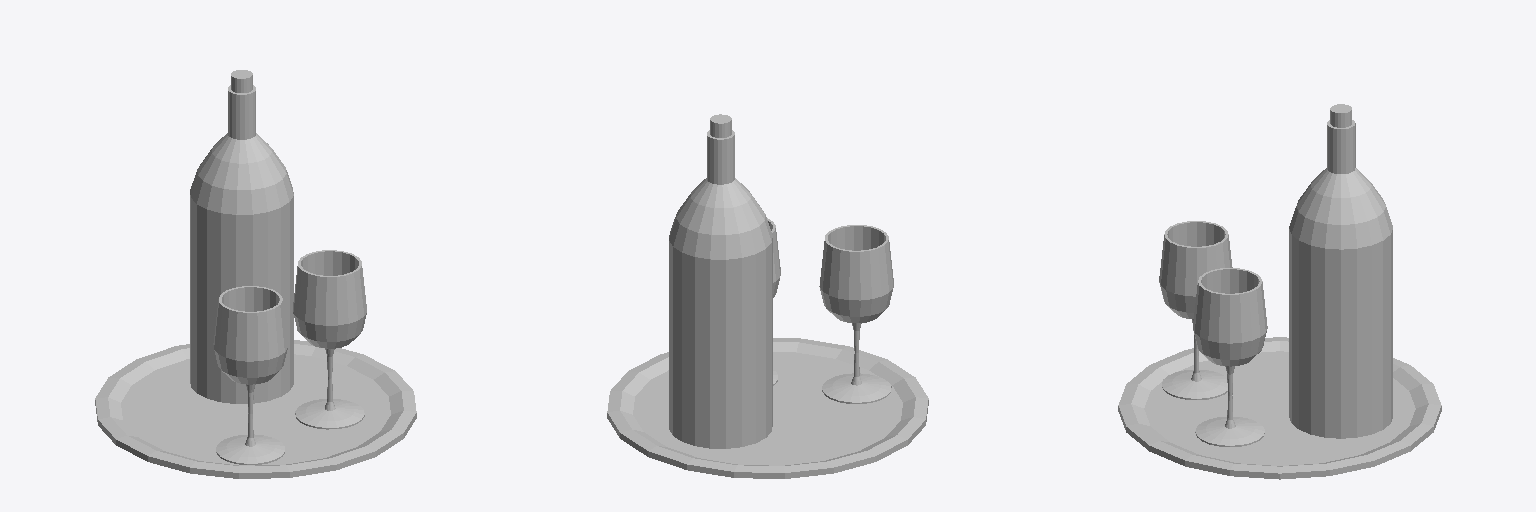
The model's file is glassesWine.obj.
3 views of the same model, side by side, from view 1: azimuth 30°, elevation 25°; view 2: azimuth 150°, elevation 25°; view 3: azimuth 270°, elevation 25° (orthographic).
Parts seen in each view (by area): view 1: pCylinder1, pCylinder2, pCylinder4, pCylinder5; view 2: pCylinder2, pCylinder1, pCylinder5; view 3: pCylinder2, pCylinder1, pCylinder4, pCylinder5.
Part boxes in pixels (x1,y1,x2,y2): pCylinder1: (95, 340, 416, 478); pCylinder2: (190, 70, 293, 403); pCylinder4: (293, 250, 366, 429); pCylinder5: (213, 286, 287, 464); pCylinder2: (669, 114, 772, 448); pCylinder1: (607, 338, 928, 478); pCylinder5: (819, 225, 893, 403); pCylinder2: (1289, 104, 1392, 438); pCylinder1: (1118, 337, 1441, 479); pCylinder4: (1193, 268, 1267, 446); pCylinder5: (1159, 221, 1232, 399).
Bounding box in the file's own units: 2 × 2.12 × 2.